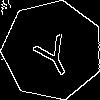Y: (27, 25, 79, 81)
